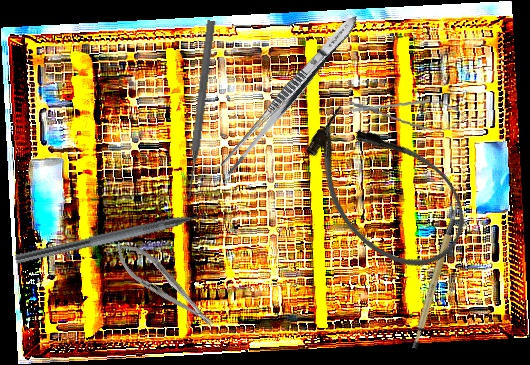Cannula: (282, 88, 487, 291)
Chopper: (14, 203, 226, 279)
Dressing Forceps: (216, 9, 364, 180)
Micro Scissor: (343, 90, 469, 135)
Needle Holder: (107, 234, 222, 337)
Pusher: (183, 19, 217, 201)
Scalpel Handle: (392, 203, 483, 351)
